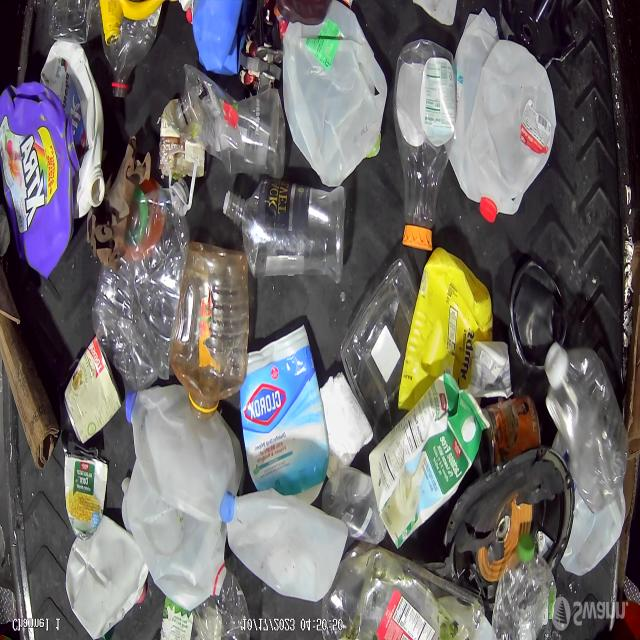can: (64, 342, 122, 446), (484, 395, 539, 475)
milk_jug: (451, 34, 560, 221), (281, 2, 388, 191), (125, 383, 239, 522), (119, 470, 227, 609), (223, 492, 349, 601), (65, 513, 149, 640)
non_white_jug: (368, 373, 491, 549), (398, 249, 494, 411), (1, 79, 73, 278), (244, 333, 327, 499)
plastic_bottle: (545, 342, 630, 514), (397, 42, 457, 251), (496, 541, 558, 638)
